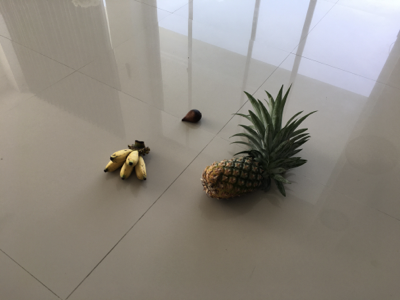banana: (104, 140, 151, 185)
pineapple: (202, 83, 319, 204)
snake fruit: (182, 110, 204, 125)
